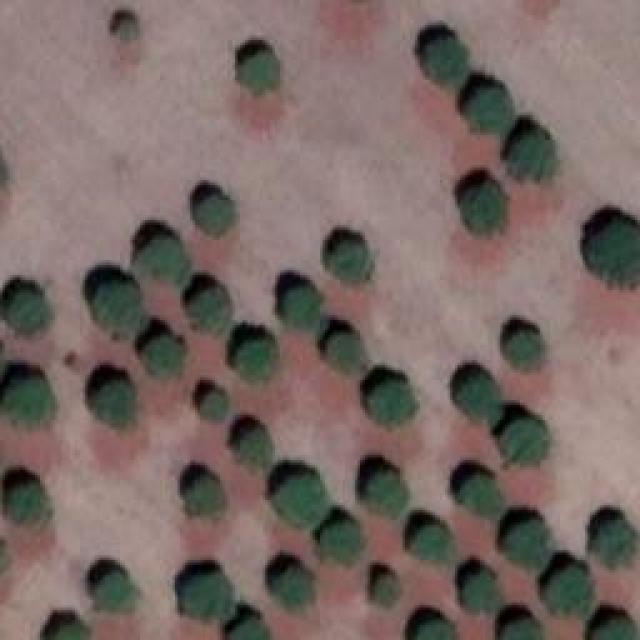Tree: (590, 223, 640, 283), (270, 475, 328, 525), (0, 380, 55, 430), (95, 283, 145, 336), (183, 572, 236, 620), (545, 568, 593, 621), (138, 237, 191, 285), (505, 520, 550, 568), (460, 185, 505, 233), (593, 520, 636, 568), (500, 420, 548, 463), (458, 375, 501, 423), (370, 383, 418, 426), (425, 37, 468, 85), (468, 88, 513, 133), (93, 380, 133, 430), (273, 568, 316, 611), (460, 475, 503, 518), (365, 473, 405, 518), (508, 135, 553, 175), (190, 290, 230, 335), (318, 523, 361, 563), (145, 338, 183, 381), (185, 475, 225, 515), (8, 293, 48, 333), (95, 573, 133, 613), (462, 573, 500, 613), (410, 525, 450, 563), (505, 330, 543, 370), (330, 243, 368, 283), (240, 50, 278, 90), (237, 340, 275, 380), (282, 288, 320, 328), (195, 193, 230, 236), (10, 483, 45, 523), (328, 333, 363, 373), (235, 427, 270, 465), (413, 620, 458, 640), (590, 620, 635, 640), (228, 620, 271, 640), (503, 620, 546, 640), (375, 573, 398, 608), (197, 392, 225, 420), (47, 622, 85, 640), (110, 20, 138, 40)
